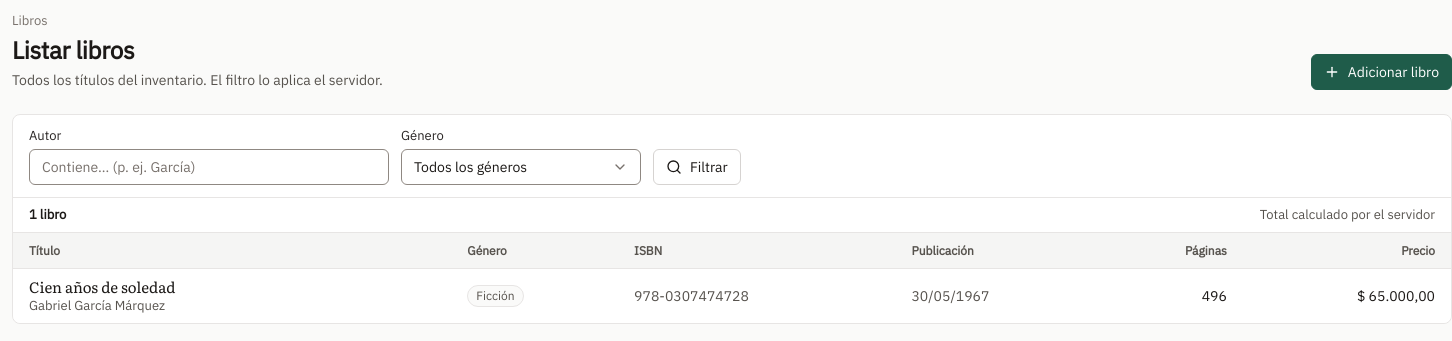
Scenario: ListarLibros › Observer: se refresca sola, con los filtros actuales, cuando el sujeto notifica
Expected: the text "Cien años de soledad" is shown, left=29, top=275, right=175, bottom=298
Type "rulfo" into the field labelled "Autor".
click(209, 167); type("rulfo")  # box left=30, top=150, right=388, bottom=184
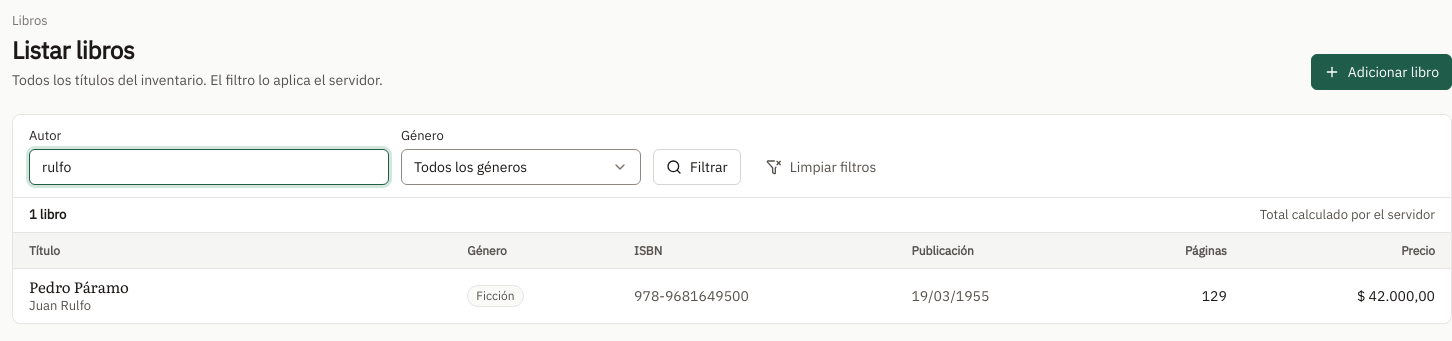
Result: the text "Pedro Páramo" is shown at left=29, top=275, right=129, bottom=298
Result: the text "Cien años de soledad" is gone
